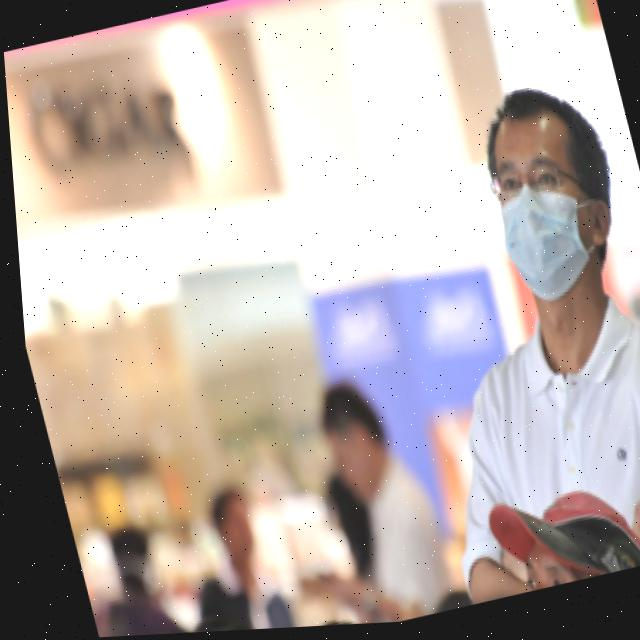Mask: (485, 176, 626, 310)
